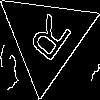R: (21, 12, 74, 71)
